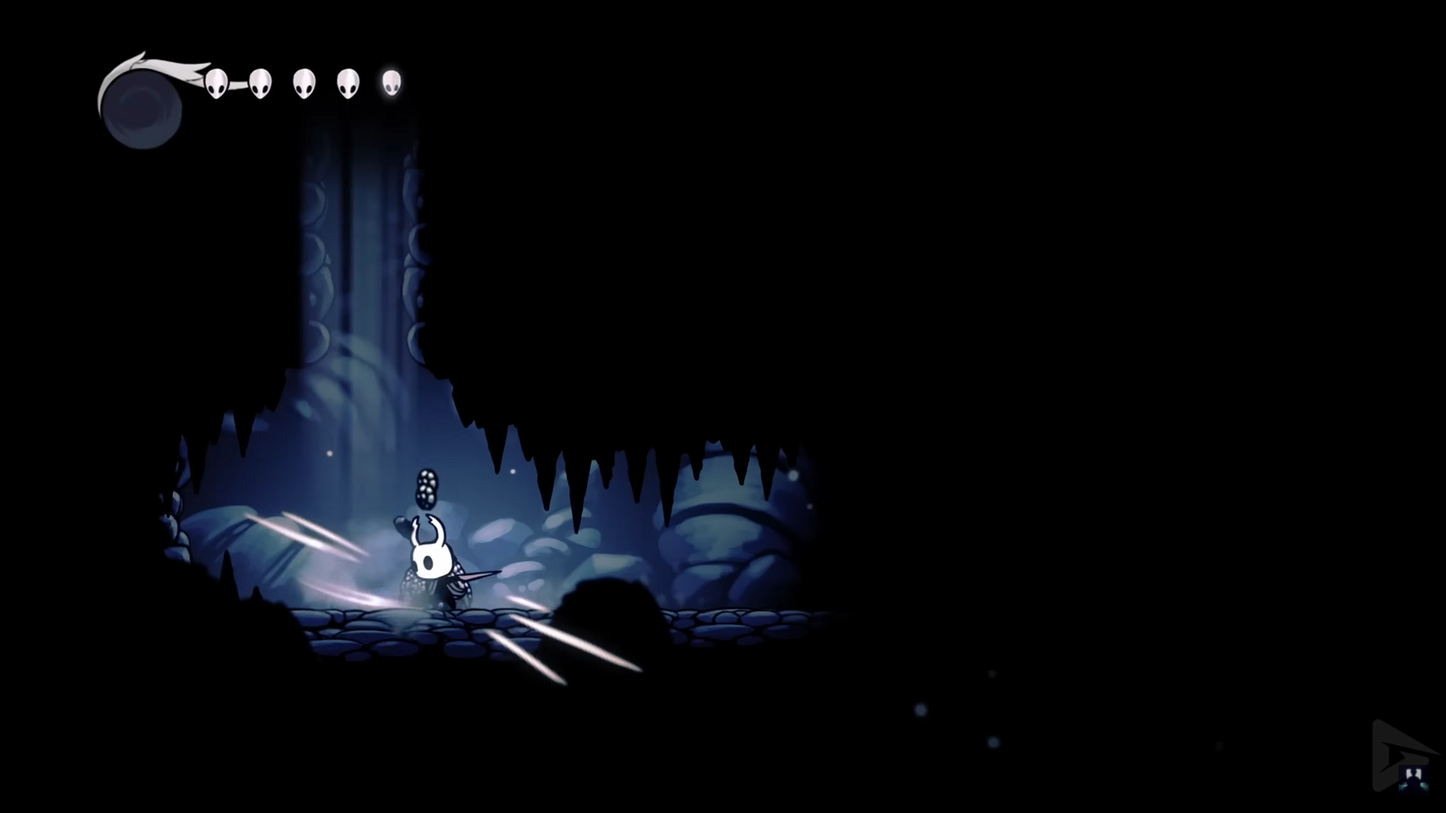HK: (403, 512, 469, 616)
